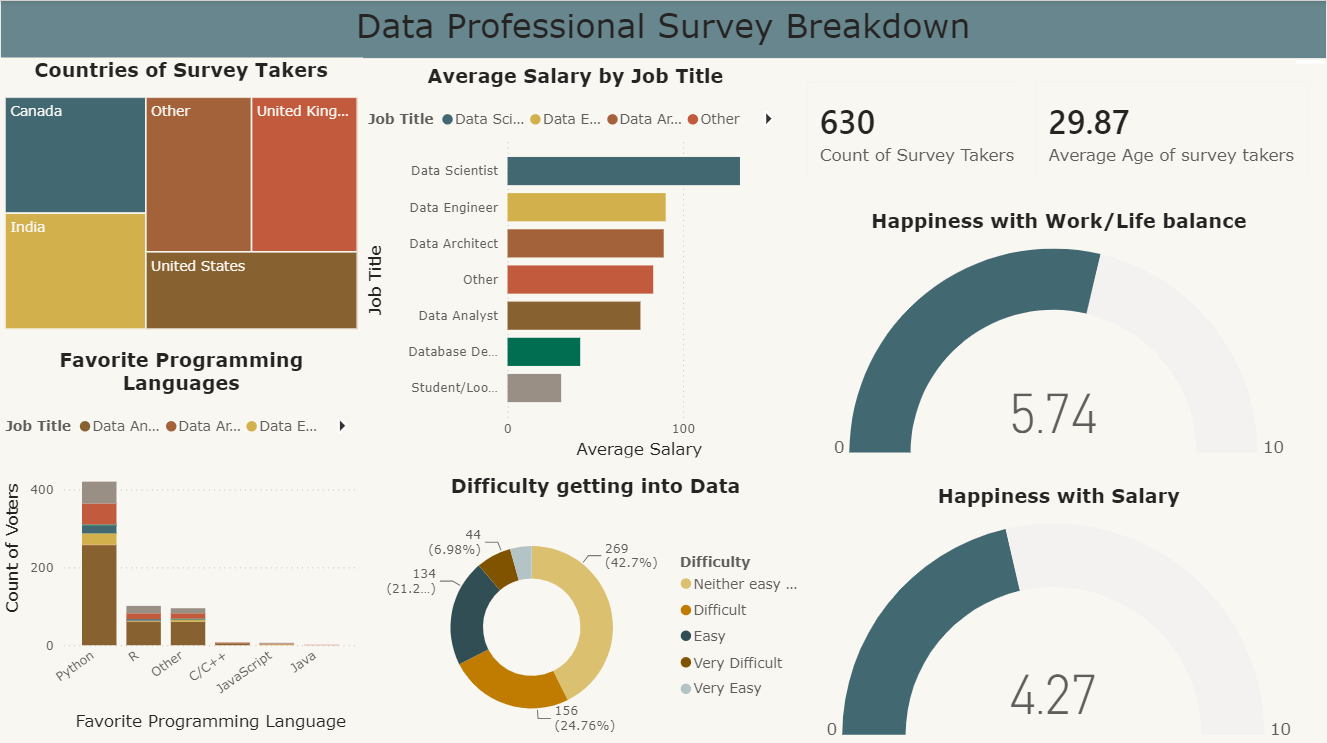

Layout of this report page (visuals, bound fields, positions):
{"tool":"powerbi","page":{"name":"Page 1","canvas":[1280,720],"ordinal":0},"visuals":[{"type":"textbox","box":[0,0,1280.3,56.2],"z":0},{"type":"cardVisual","fields":{"Data":["Count(Data Professional Survey.Unique ID)"]},"box":[760.8,61.7,268.7,128.9],"z":1000},{"type":"cardVisual","fields":{"Data":["Avg(Data Professional Survey.Q10 - Current Age)"]},"box":[981.5,61.7,298.8,128.9],"z":2000},{"type":"barChart","title":"Average Salary by Job Title","fields":{"Category":["Data Professional Survey.Q1 - Which Title Best Fits your Current Role?.1"],"Y":["Avg(Data Professional Survey.Average Salary)"],"Series":["Data Professional Survey.Q1 - Which Title Best Fits your Current Role?.1"]},"box":[349.5,61.7,411.2,385.2],"z":3000},{"type":"columnChart","title":"Favorite Programming Languages","fields":{"Category":["Data Professional Survey.Q5 - Favorite Programming Language.1"],"Y":["CountNonNull(Data Professional Survey.Unique ID)"],"Series":["Data Professional Survey.Q1 - Which Title Best Fits your Current Role?.1"]},"box":[0,335.7,350,374.3],"z":4000},{"type":"treemap","title":"Countries of Survey Takers","fields":{"Group":["Data Professional Survey.Q11 - Which Country do you live in?.1"],"Values":["Count(Data Professional Survey.Q11 - Which Country do you live in?.1)"]},"box":[0,55.7,350,267.1],"z":5000},{"type":"gauge","title":"Happiness with Work/Life balance","fields":{"Y":["Avg(Data Professional Survey.Q6 - How Happy are you in your Current Position with the following? (Work/Life Balance))"],"MinValue":["Min(Data Professional Survey.Q6 - How Happy are you in your Current Position with the following? (Work/Life Balance))"],"MaxValue":["Max(Data Professional Survey.Q6 - How Happy are you in your Current Position with the following? (Work/Life Balance))"]},"box":[784.1,201.5,475.6,245.4],"z":6000},{"type":"gauge","title":"Happiness with Salary","fields":{"Y":["Avg(Data Professional Survey.Q6 - How Happy are you in your Current Position with the following? (Salary))"],"MinValue":["Min(Data Professional Survey.Q6 - How Happy are you in your Current Position with the following? (Salary))1"],"MaxValue":["Max(Data Professional Survey.Q6 - How Happy are you in your Current Position with the following? (Salary))2"]},"box":[784.1,467.4,475.6,252.2],"z":7000},{"type":"donutChart","title":"Difficulty getting into Data","fields":{"Category":["Data Professional Survey.Q7 - How difficult was it for you to break into Data?"],"Y":["CountNonNull(Data Professional Survey.Q7 - How difficult was it for you to break into Data?)"]},"box":[365.7,457.1,418.6,262.9],"z":8000}]}

Visuals, with their boxes in screenshot pixels (x1, y1, x2, y2), scaled from the page's 1280x720 canvas onto the 1327x743 screenshot:
textbox: (0, 0, 1326, 58)
cardVisual - Count(Data Professional Survey.Unique ID): (789, 64, 1067, 197)
cardVisual - Avg(Data Professional Survey.Q10 - Current Age): (1018, 64, 1326, 197)
"Average Salary by Job Title" barChart: (362, 64, 789, 461)
"Favorite Programming Languages" columnChart: (0, 346, 363, 733)
"Countries of Survey Takers" treemap: (0, 57, 363, 333)
"Happiness with Work/Life balance" gauge: (813, 208, 1306, 461)
"Happiness with Salary" gauge: (813, 482, 1306, 742)
"Difficulty getting into Data" donutChart: (379, 472, 813, 742)
